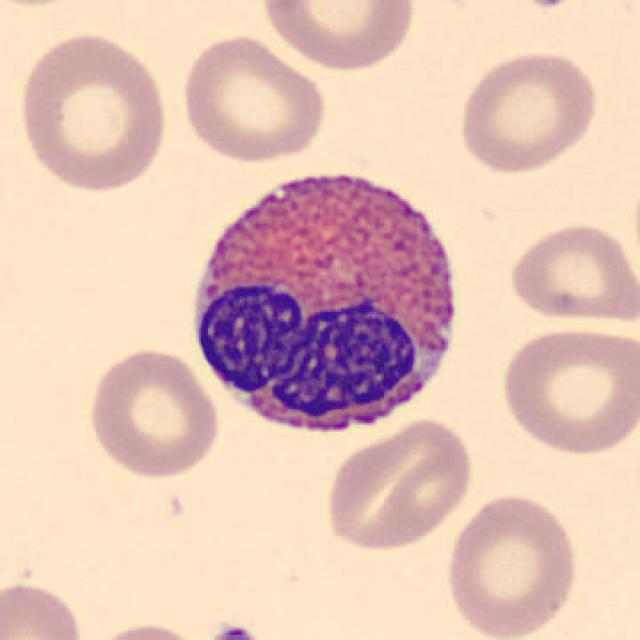Eosinophil: (176, 146, 475, 450)
Platelets: (206, 622, 265, 640)
RBC: (14, 28, 172, 196), (320, 414, 476, 556), (441, 488, 583, 640), (176, 30, 329, 164), (84, 342, 224, 481), (496, 322, 638, 458), (455, 46, 601, 176), (503, 218, 638, 324), (256, 0, 420, 74), (0, 578, 89, 640), (84, 619, 208, 640)
